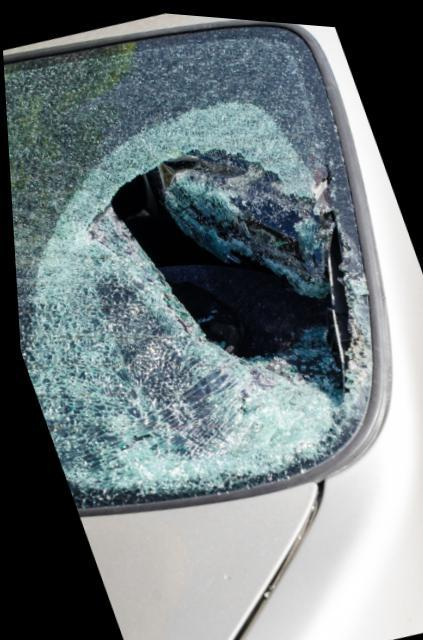glass shatter: (3, 20, 369, 507)
